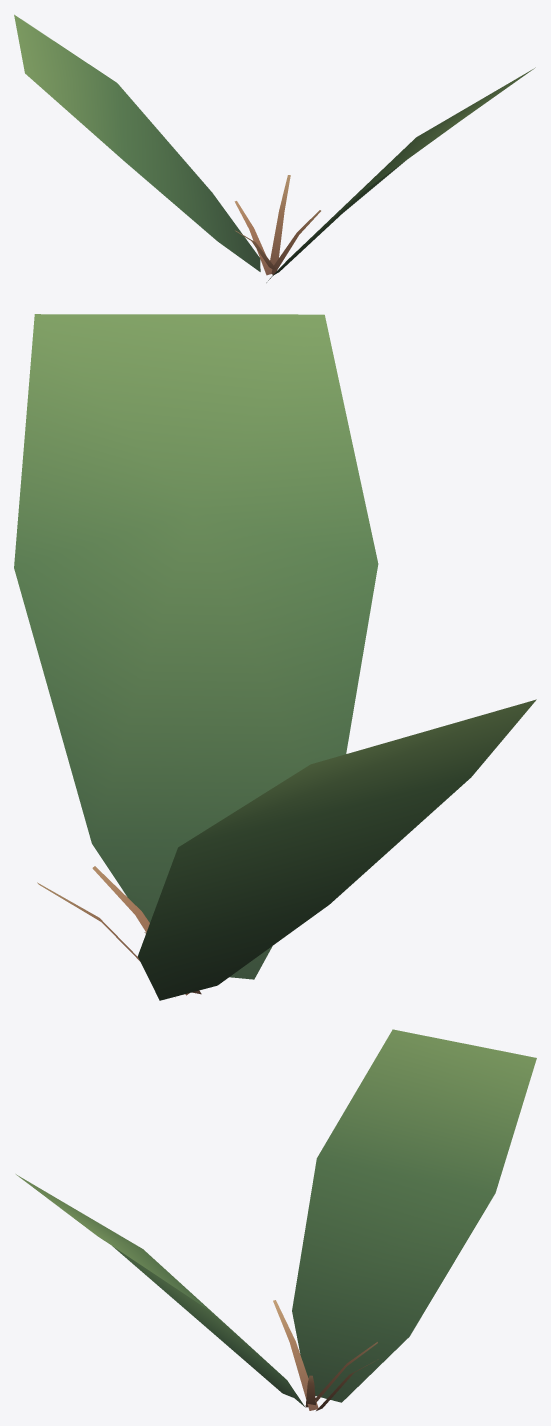
Rendered from DockWeed_LOD1.glb.
3 views of the same model, one above another, from view 1: azimuth 30°, elevation 25°; view 2: azimuth 150°, elevation 25°; view 3: azimuth 270°, elevation 25° (orthographic). The views are drawn at different scales.
Parts seen in each view (by area): view 1: DockWeed_LOD1; view 2: DockWeed_LOD1; view 3: DockWeed_LOD1.
Boxes of the visible parts, left/top/right/bottom form: DockWeed_LOD1: left=14, top=14, right=535, bottom=282; DockWeed_LOD1: left=14, top=314, right=536, bottom=1000; DockWeed_LOD1: left=16, top=1029, right=536, bottom=1410.
Bounding box in the file's own units: 0.2109 × 0.123 × 0.217.
